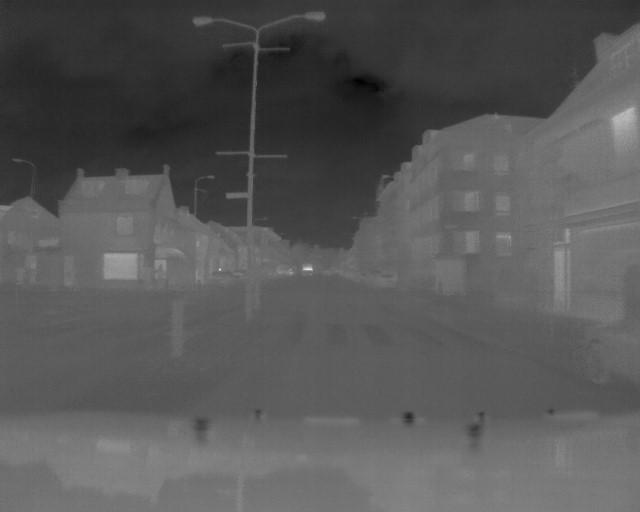car: (585, 304, 638, 405)
